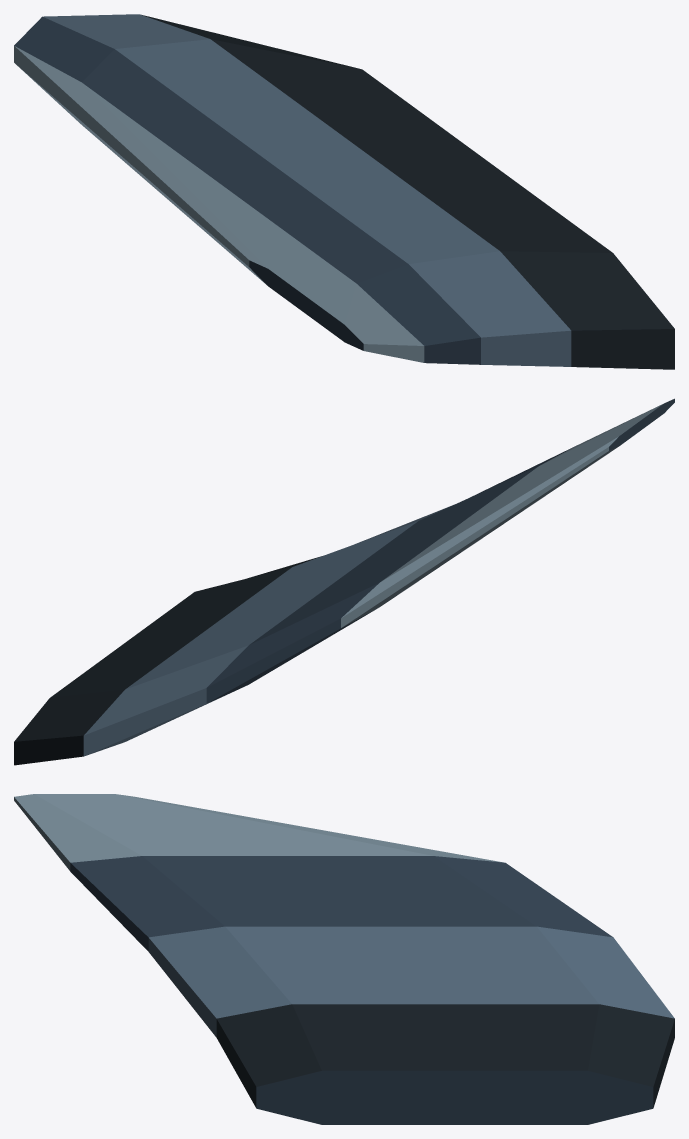
File: FangWingLeft.obj
3 views of the same model, one above another, from view 1: azimuth 30°, elevation 25°; view 2: azimuth 150°, elevation 25°; view 3: azimuth 270°, elevation 25° (orthographic). The views are drawn at different scales.
Visible parts, largest first — view 1: FangWingLeft; view 2: FangWingLeft; view 3: FangWingLeft.
Boxes of the visible parts, x1,y1,x2,y2 form: FangWingLeft: (14,14,674,369); FangWingLeft: (14,398,674,765); FangWingLeft: (14,794,674,1124).
Bounding box in the file's own units: 1.99 × 1.27 × 3.98.
